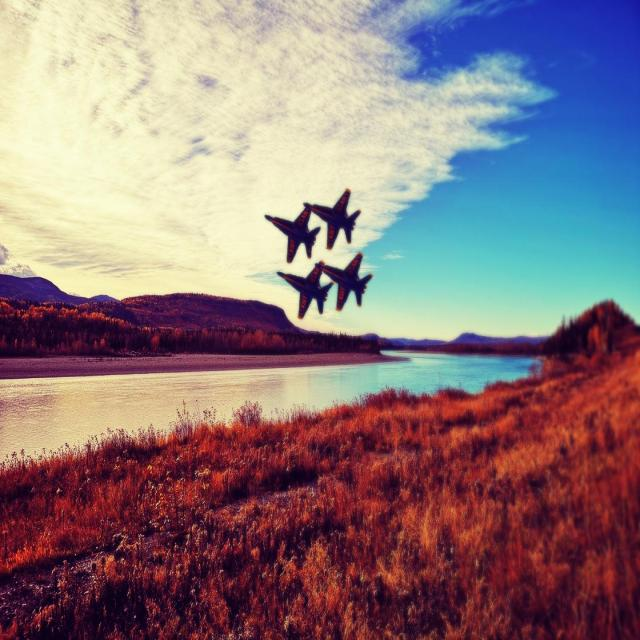airplane: (303, 188, 361, 250), (314, 252, 373, 311), (276, 262, 334, 319), (264, 205, 320, 262)
